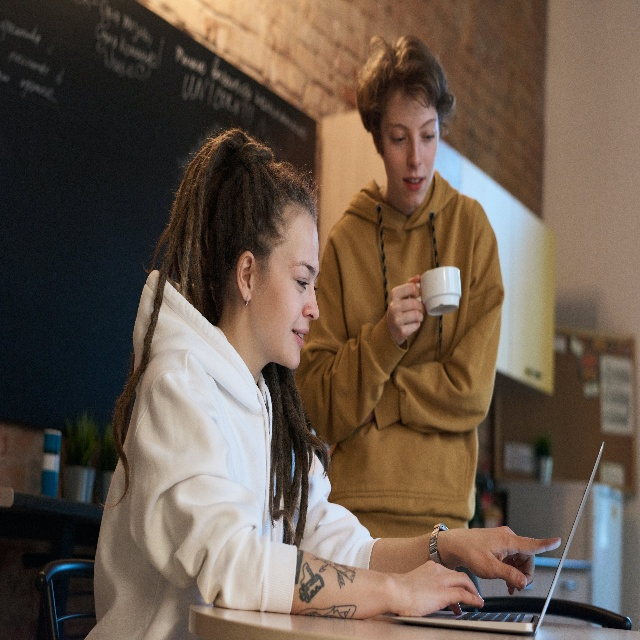Sin_guantes: (451, 525, 562, 596), (391, 559, 484, 618), (385, 272, 425, 346)
